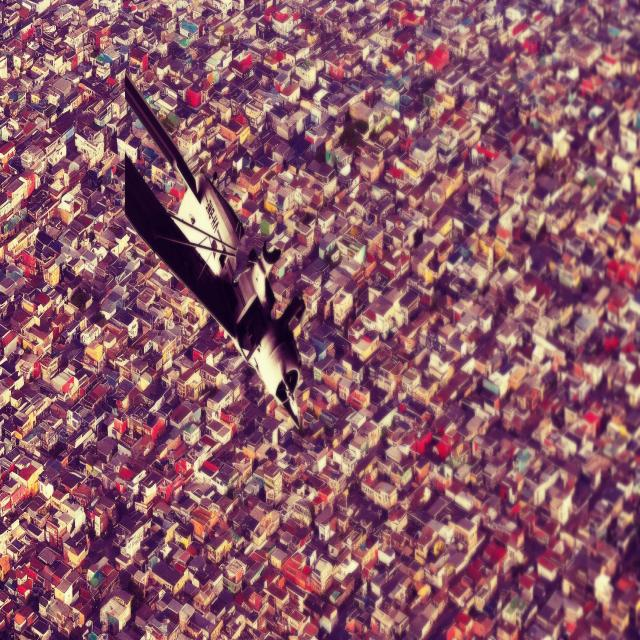airplane: (122, 71, 307, 430)
